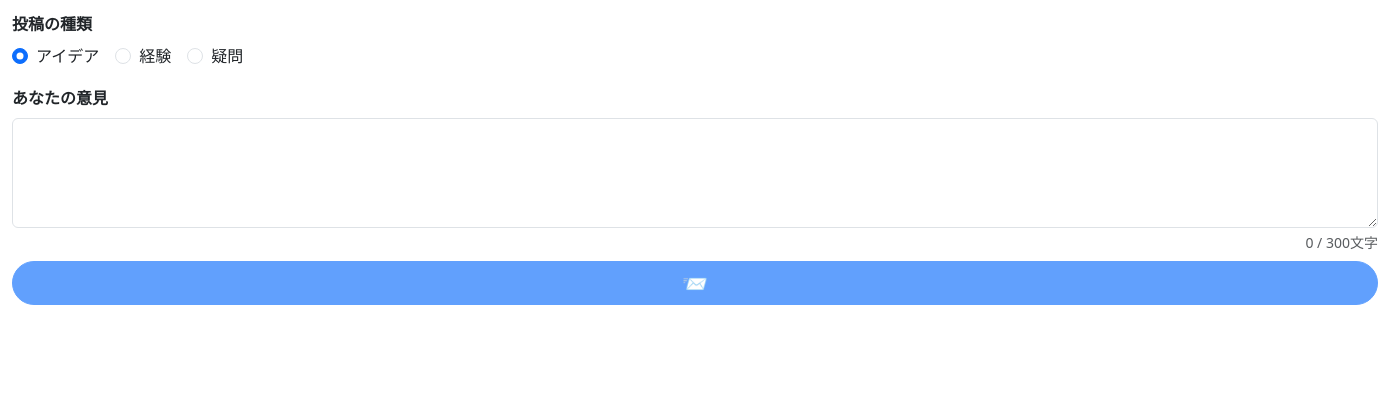
Test: 投稿フォーム › 失敗すると、理由を表示し、入力を残す
In the text box labelled "あなたの意見": (695, 173) x1=12 y1=118 x2=1378 y2=228, type "失敗する投稿"
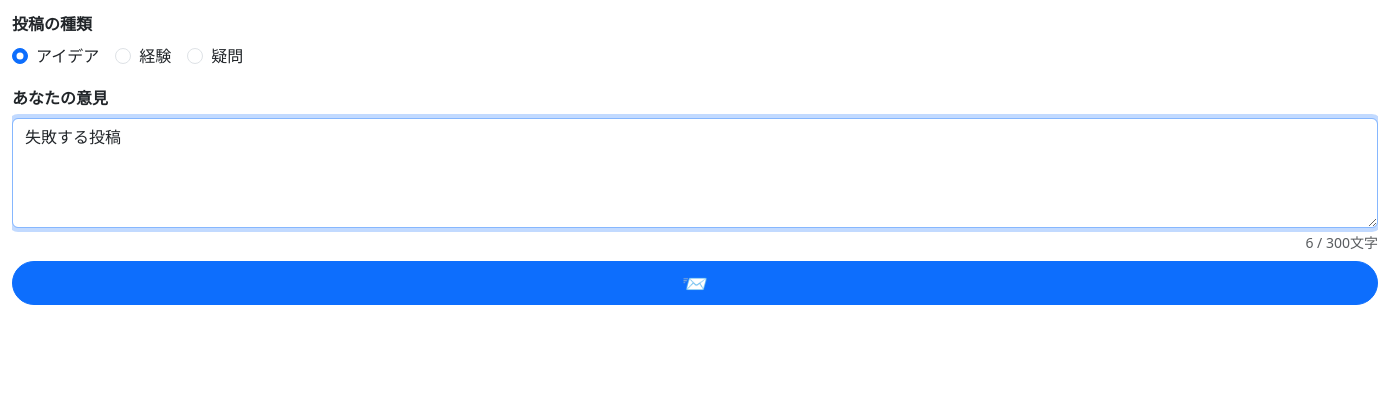
Click the button "📨": (695, 283) x1=12 y1=261 x2=1378 y2=305
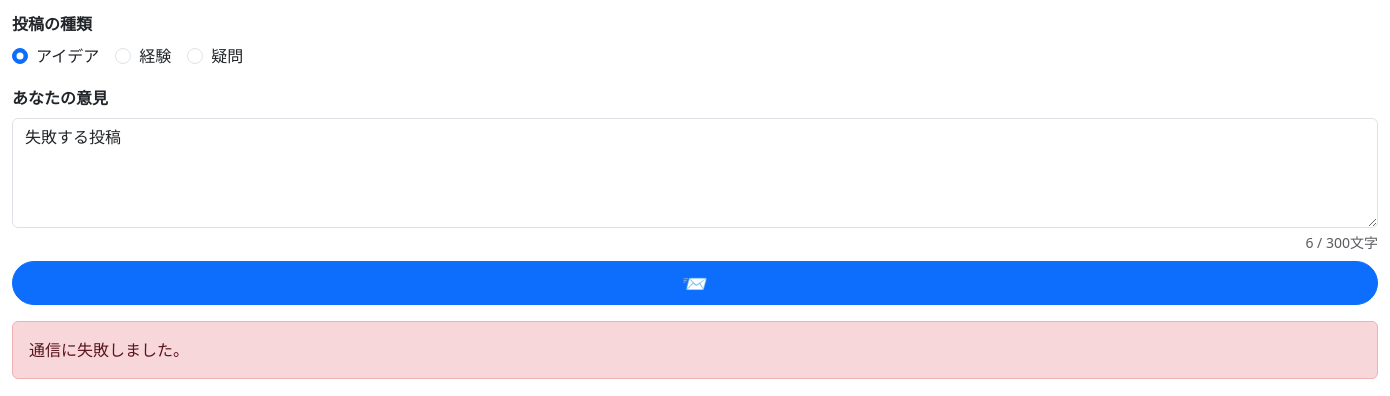
Expected: the message reads "通信に失敗しました。", x1=29 y1=339 x2=189 y2=361
